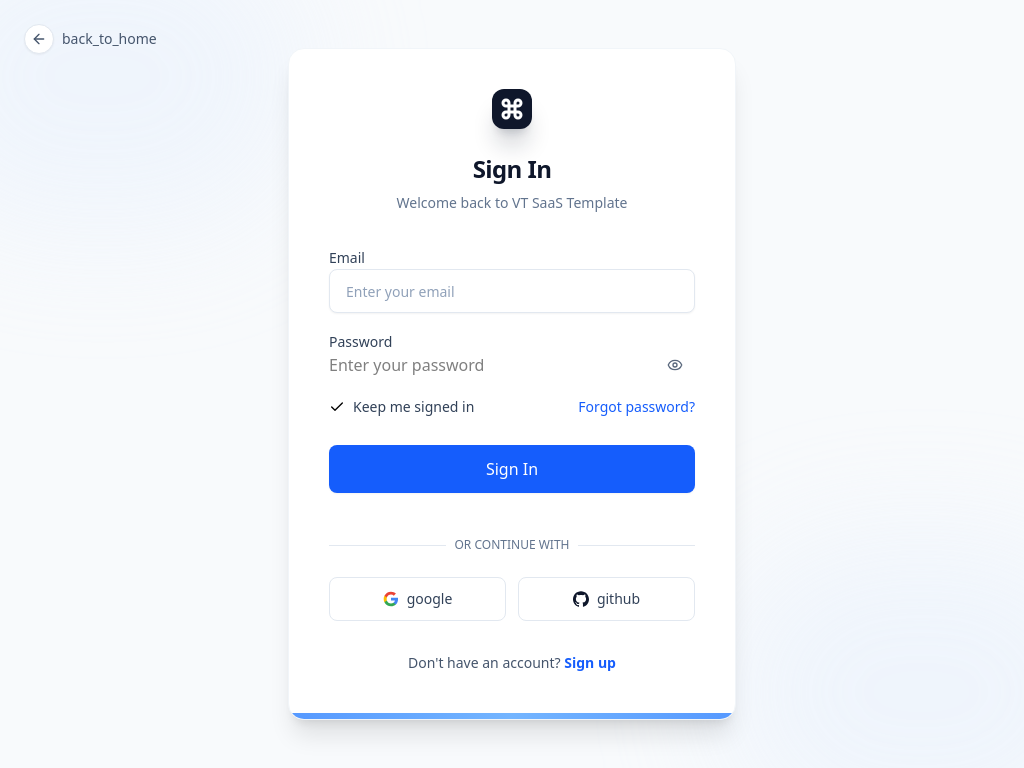
SignInFormClient › shows loading state during submission
Type "test@example.com" into the field labelled "Email". click: (512, 291)
box: [329, 269, 695, 313]
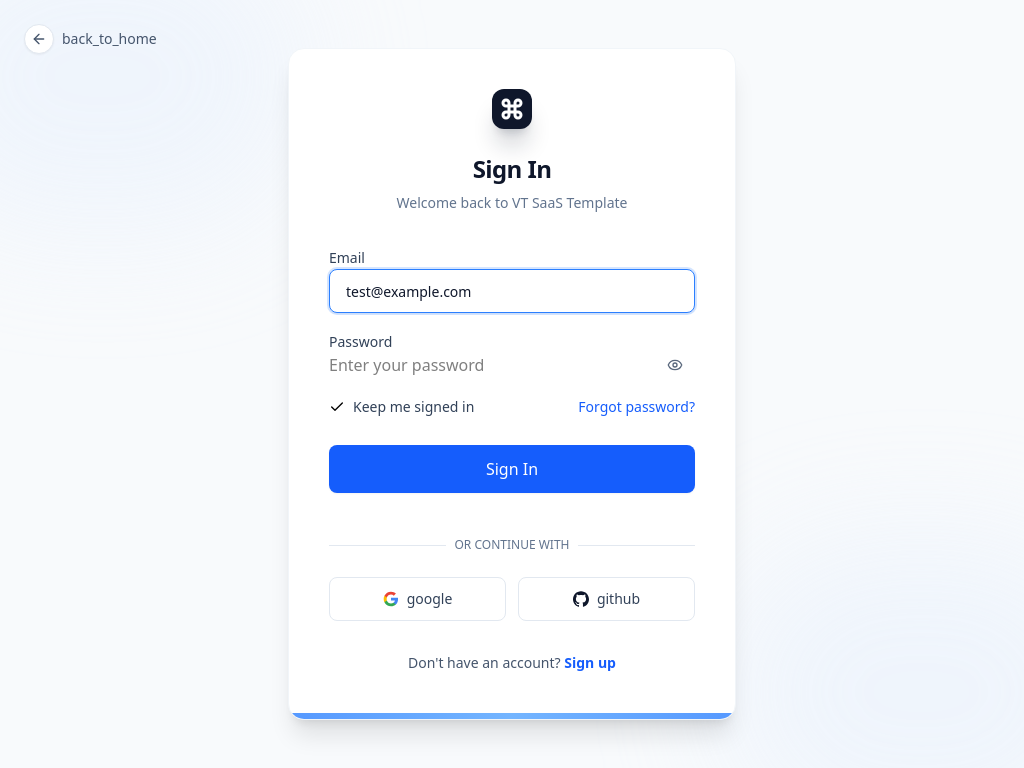
Type "Password123" into the password field labelled "Password". click: (444, 365)
box: [329, 353, 560, 377]
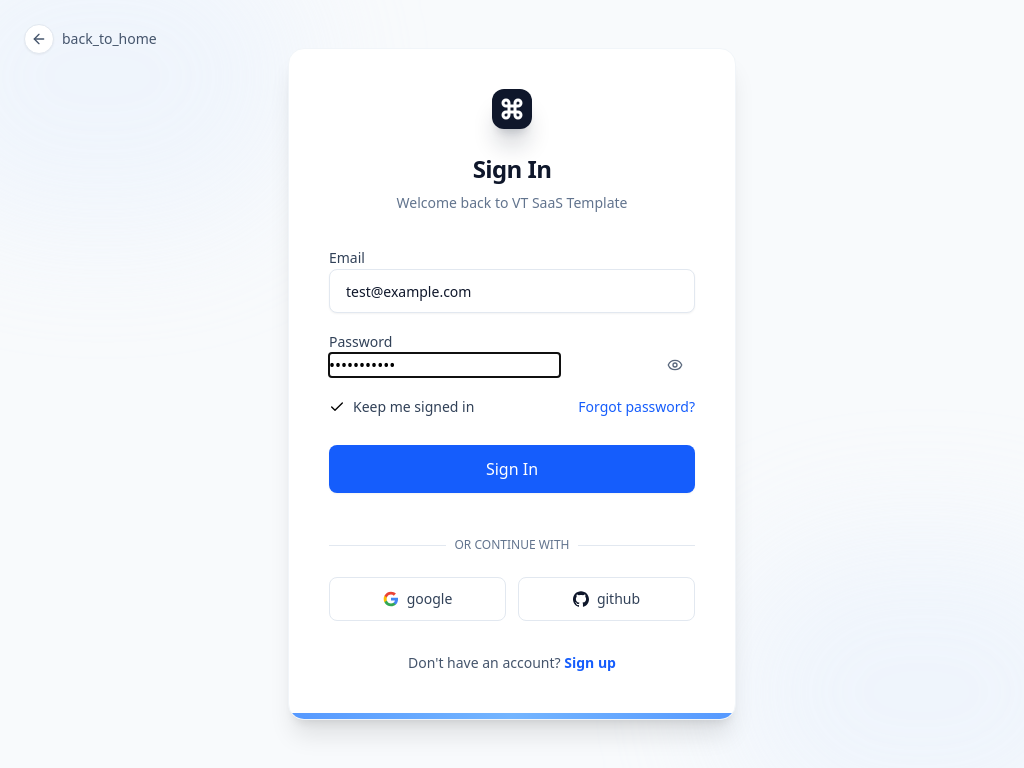
Click the button "Sign In". click: (512, 469)
box: [329, 445, 695, 493]
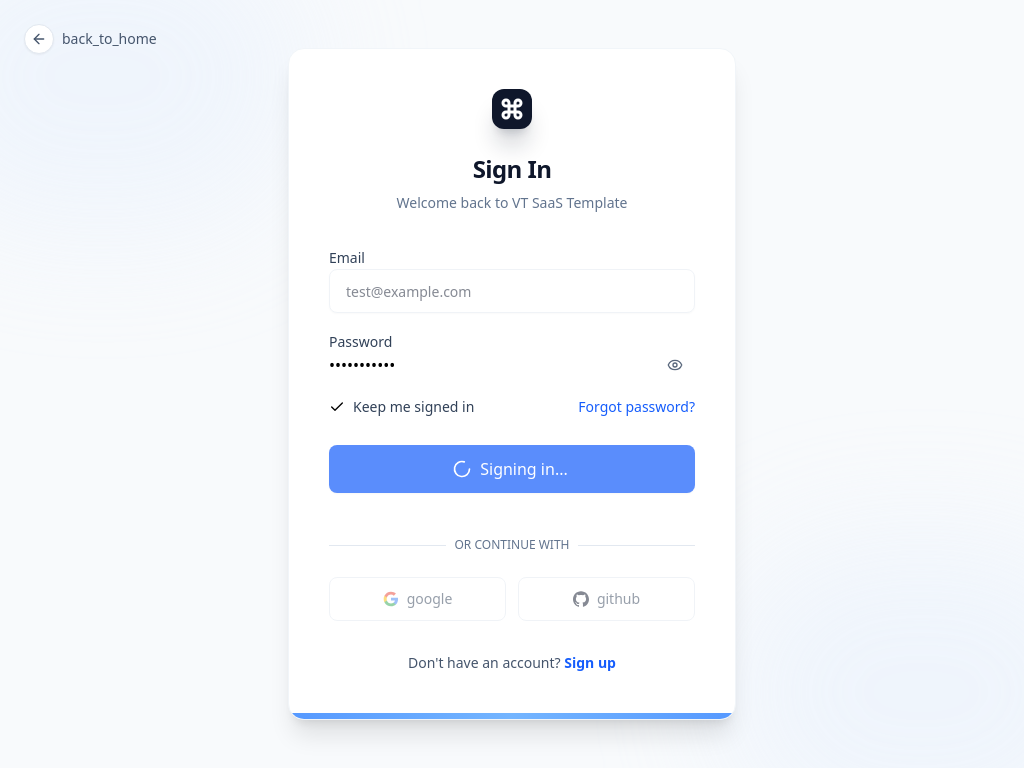
Expected: the text "Signing in..." is shown, [452, 458, 568, 480]
Expected: the button named "sign in" is disabled, [329, 445, 695, 493]
